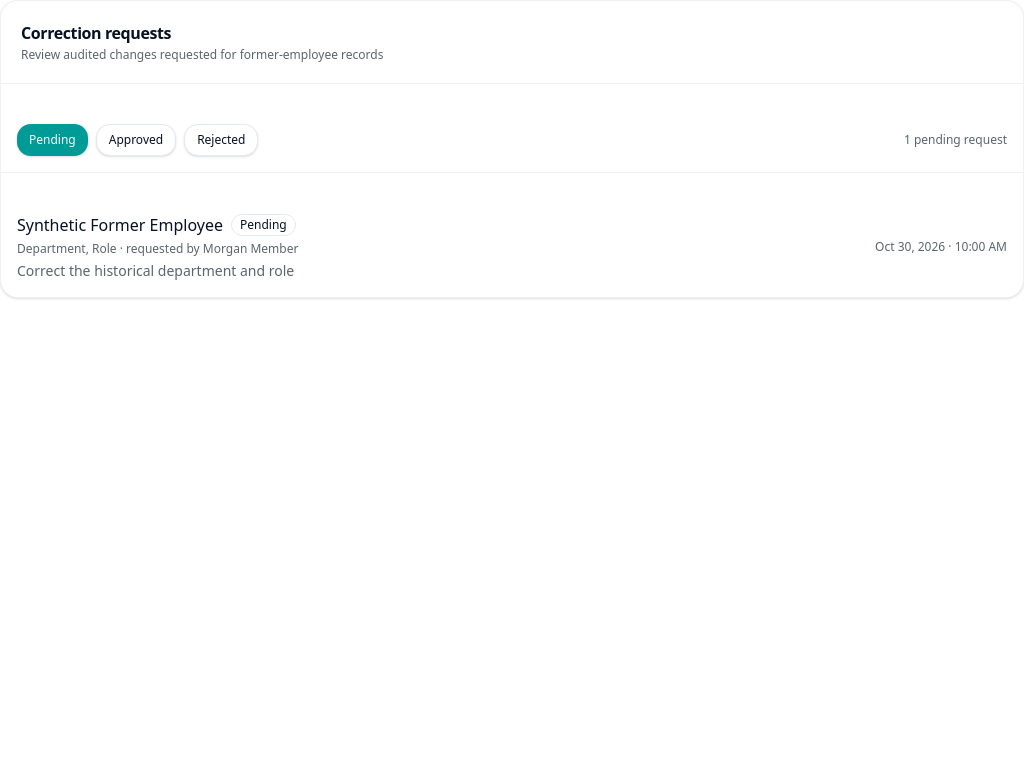
Test: FormerEmployeeCorrectionsCard › rejects through the audited endpoint and refreshes to the Rejected filter
This screenshot has width=1024, height=768.
Step 1. Click the text "Synthetic Former Employee" → click(120, 225), box x1=17 y1=213 x2=223 y2=237
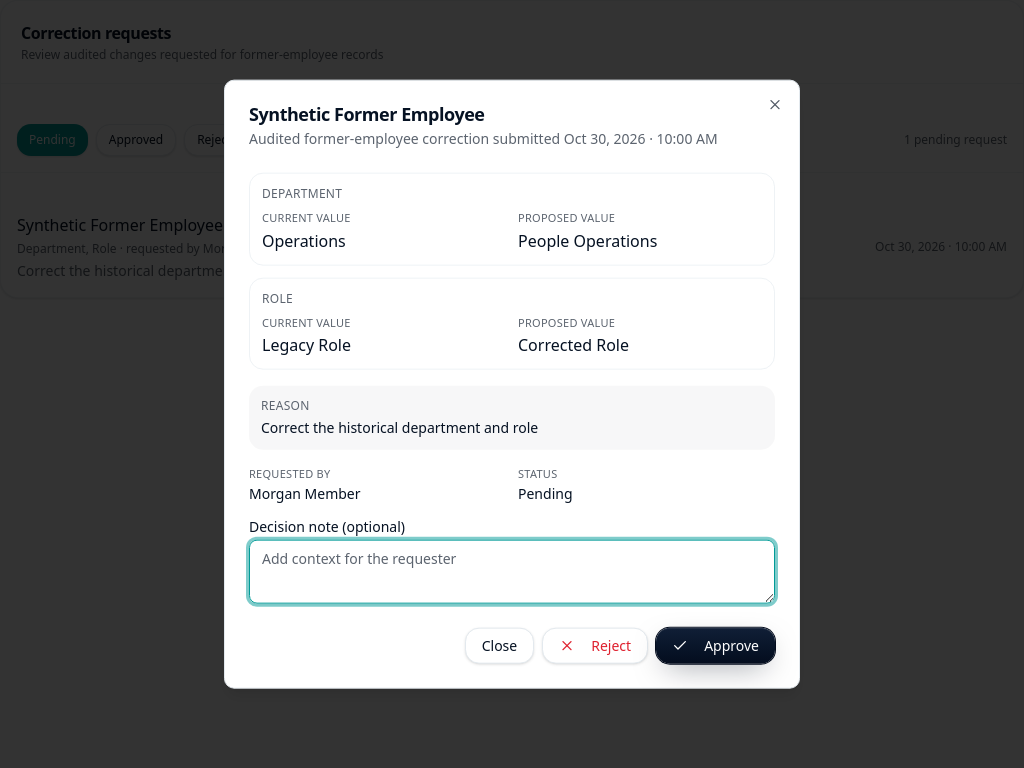
Step 2. Click the button "Reject" → click(595, 645), box x1=542 y1=627 x2=648 y2=663
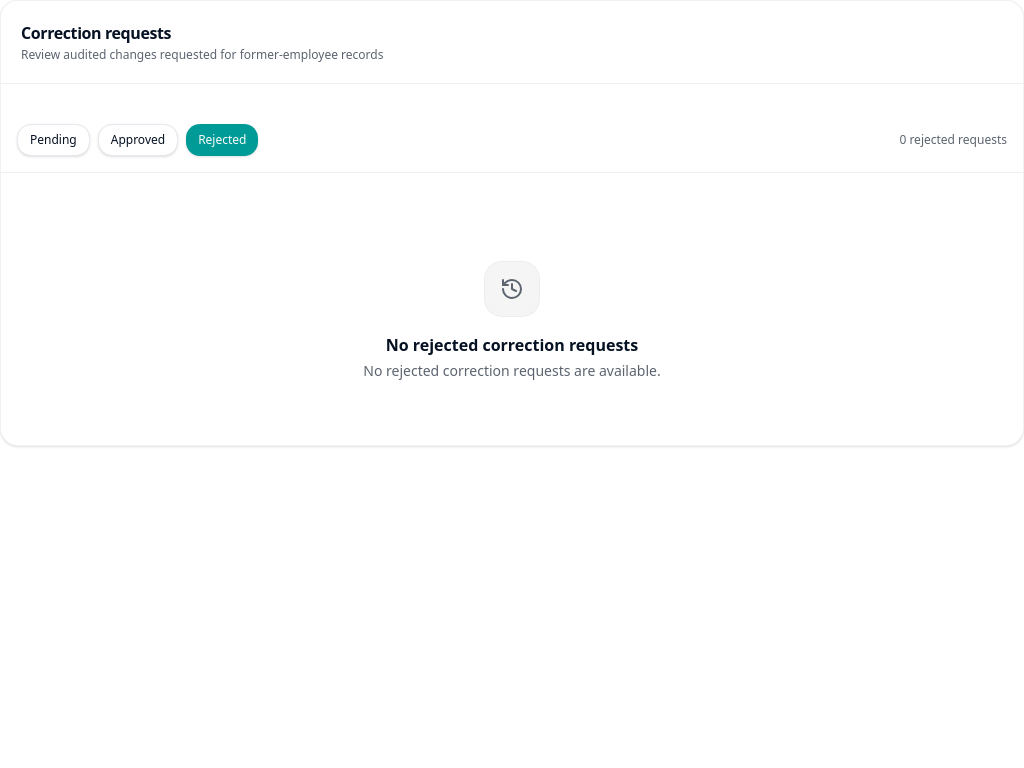
Expected: the text "No rejected correction requests" is shown, x1=386 y1=333 x2=638 y2=357
